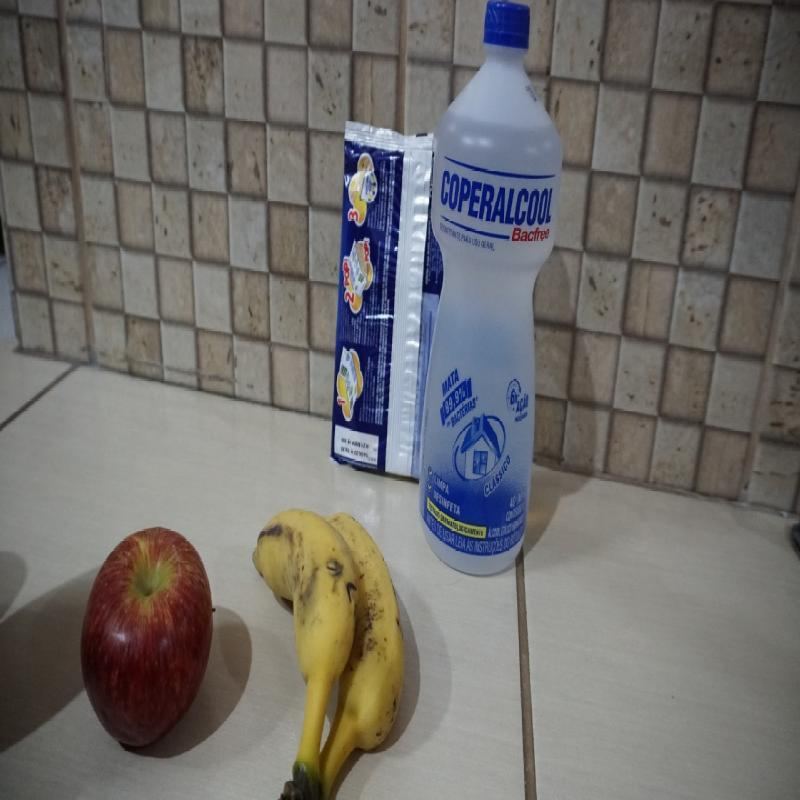Alcohol Bottle: (418, 1, 566, 578)
Apple: (79, 524, 215, 749)
Banana: (250, 510, 405, 800)
Popcorn: (330, 119, 446, 482)
